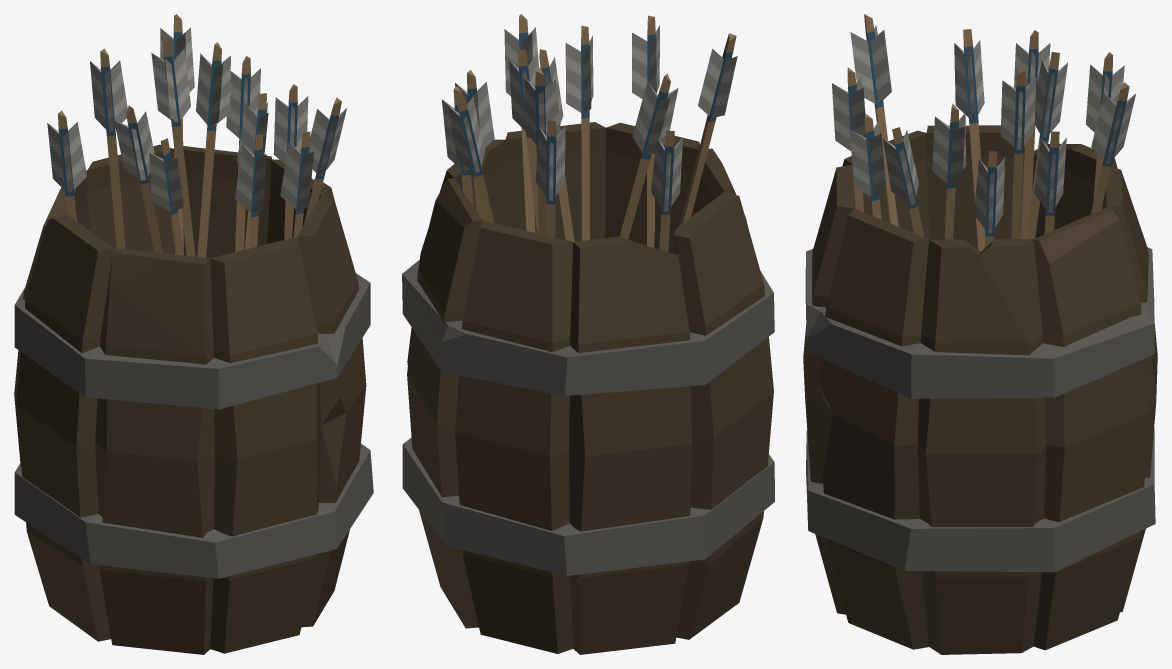
Rendered from prop_barrel_arrows.gltf.
The picture shows the model from 3 angles, left to right: view 1: azimuth 30°, elevation 25°; view 2: azimuth 150°, elevation 25°; view 3: azimuth 270°, elevation 25°; orthographic projection. The views are drawn at different scales.
Visible parts, largest first — view 1: prop_barrel_arrows; view 2: prop_barrel_arrows; view 3: prop_barrel_arrows.
Part boxes in pixels (x1,y1,x2,y2): prop_barrel_arrows: (14, 14, 373, 654); prop_barrel_arrows: (402, 14, 774, 654); prop_barrel_arrows: (803, 14, 1157, 654).
Bounding box in the file's own units: 0.7176 × 1.22 × 0.7176.
1 material, 1 textured.
